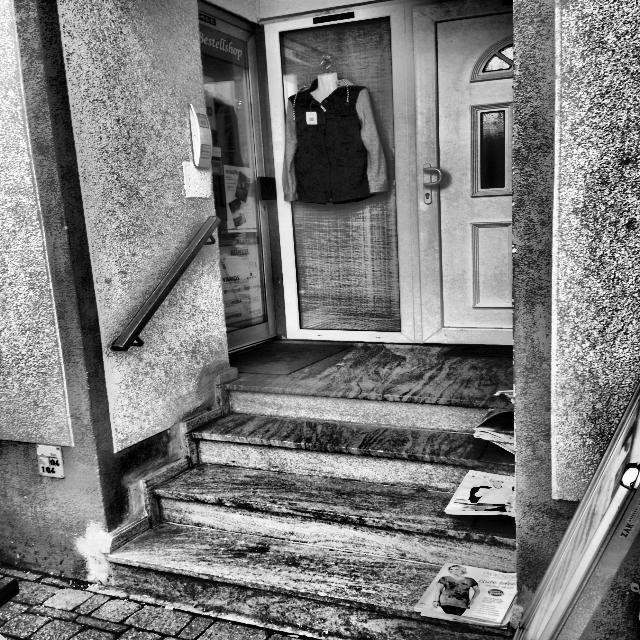escada: (99, 381, 518, 637)
